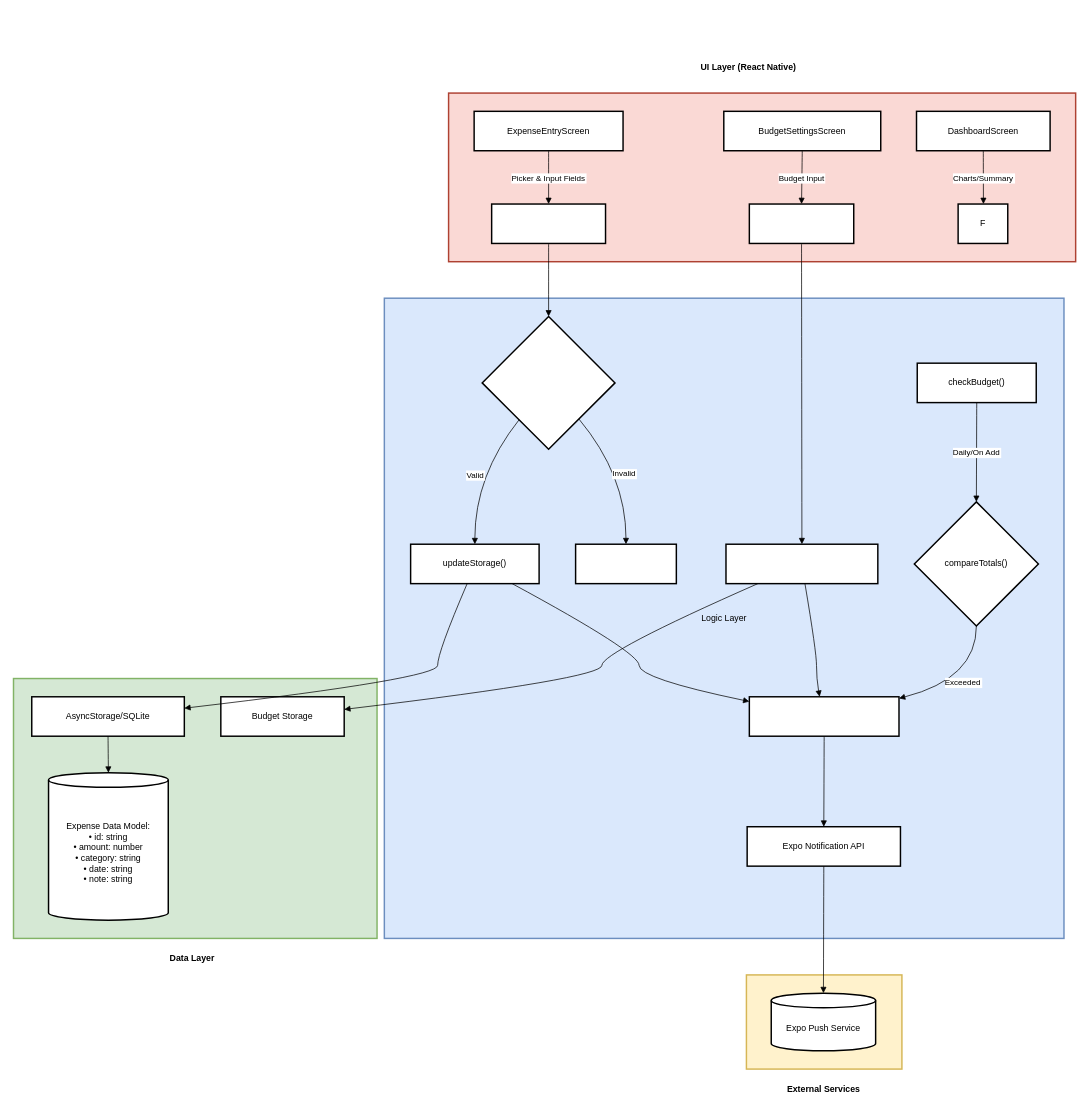
The diagram is 1088 pixels wide and 1113 high, and some of its shapes have lost their labels. The shapes that lost their labels are listed below. From the top down, each one's box as (x1, y1, x2, y2) in pixels, then its label:
(491, 203, 606, 244): addExpense()
(748, 203, 854, 244): setBudget()
(481, 315, 615, 450): validateExpense()
(575, 543, 677, 584): Show Error
(725, 543, 878, 584): updateBudgetLimit()
(748, 696, 899, 737): triggerNotification()
